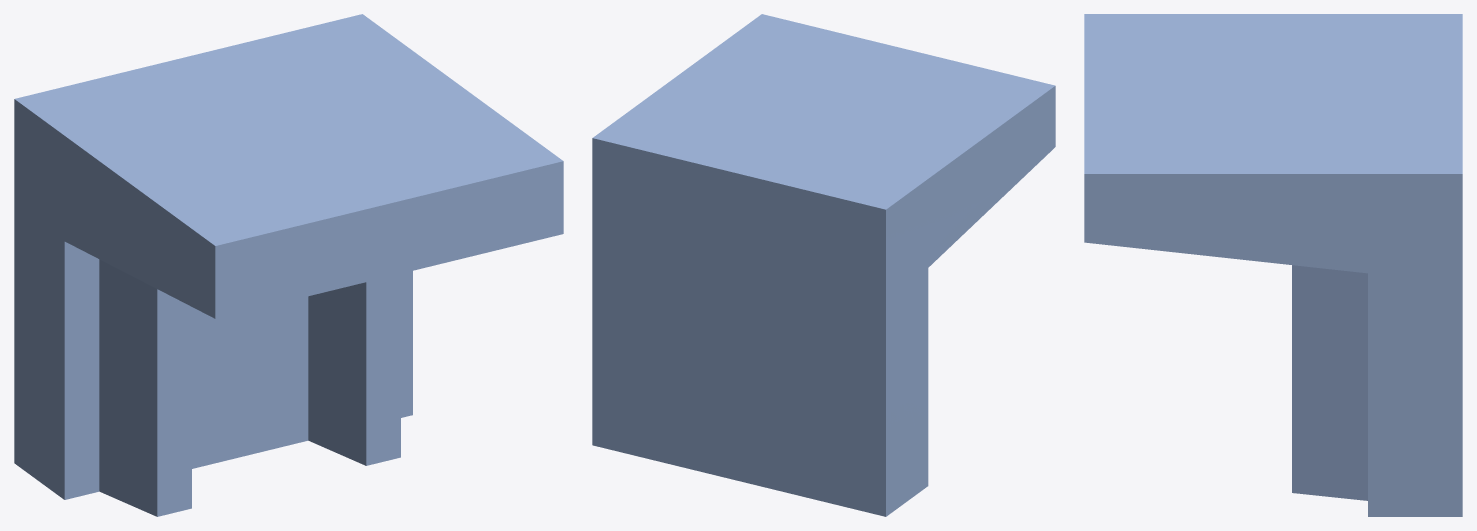
3 renders of one model, left to right at view 1: azimuth 30°, elevation 25°; view 2: azimuth 150°, elevation 25°; view 3: azimuth 270°, elevation 25°, orthographic. The views are drawn at different scales.
Parts seen in each view (by area): view 1: Cube.004; view 2: Cube.004; view 3: Cube.004.
Boxes of the visible parts, box(x1,y1,x2,y2) form: Cube.004: box(14, 14, 563, 516); Cube.004: box(592, 14, 1055, 516); Cube.004: box(1084, 14, 1462, 516).
Bounding box in the file's own units: 100 × 100 × 100.
